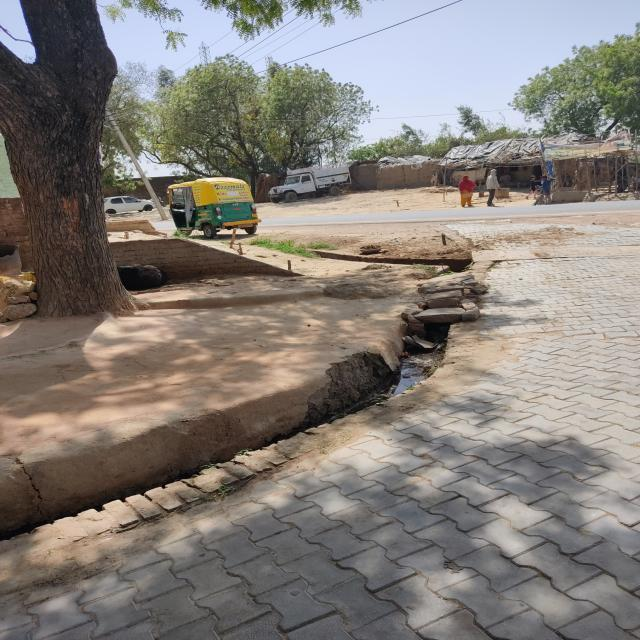auto_back: (155, 170, 273, 236)
